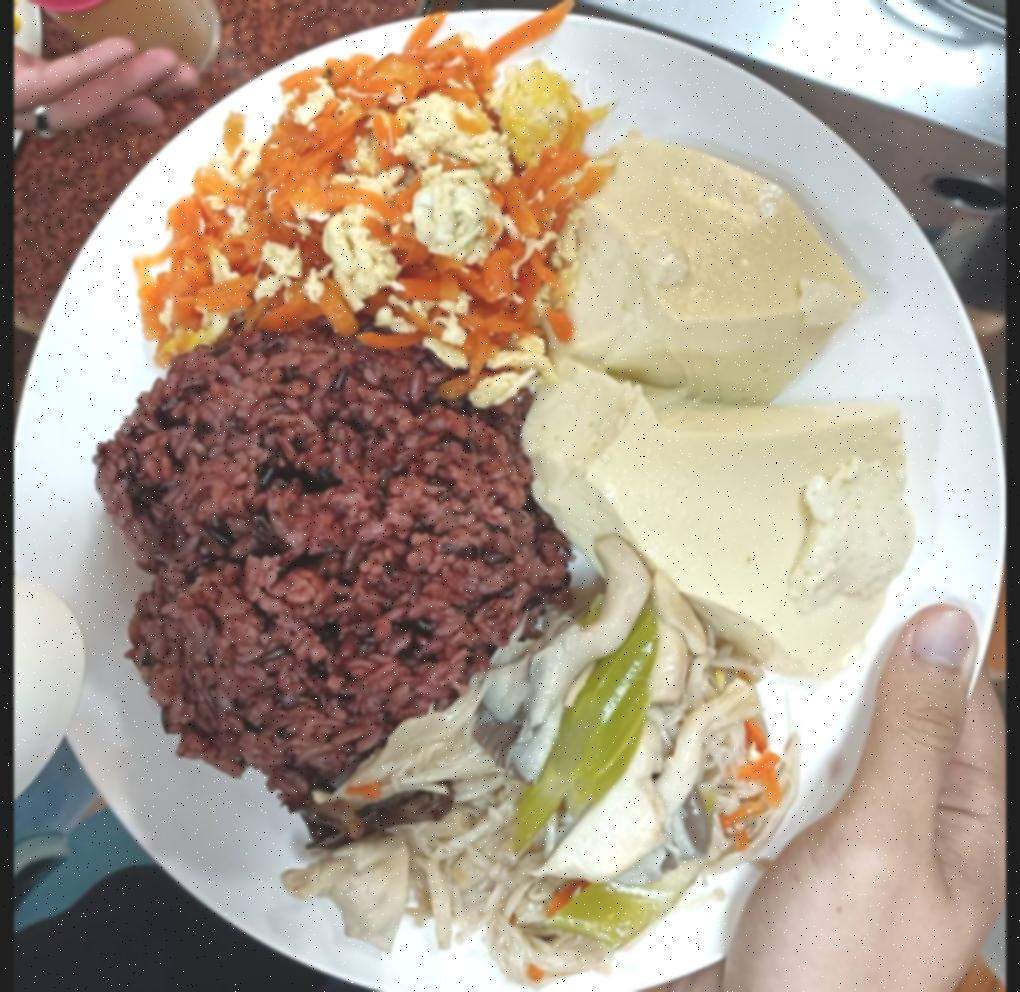plate: (16, 4, 1006, 992)
purple rice: (97, 328, 564, 796)
side dish: (510, 136, 910, 689), (294, 540, 800, 967), (132, 12, 604, 403)
